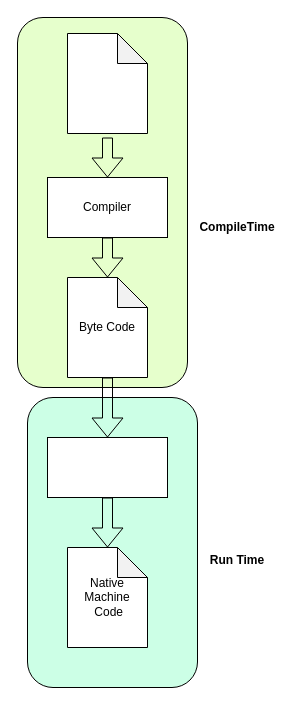
This 300x705 diagram has some shape labels left out. The shapes that lost their labels are listed below. From the top down, each one's centre as x and y in pixels, then its label:
At (x=107, y=83): ".java file".
At (x=107, y=467): "JIT Compiler".
